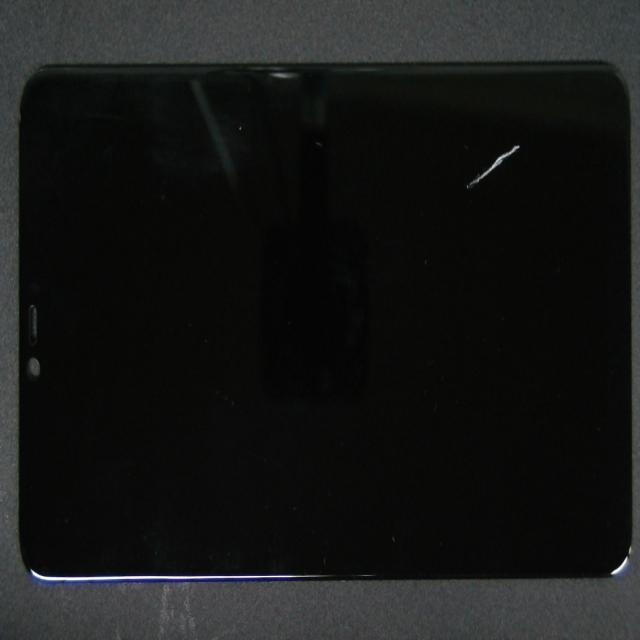scratch: (302, 39, 640, 202)
